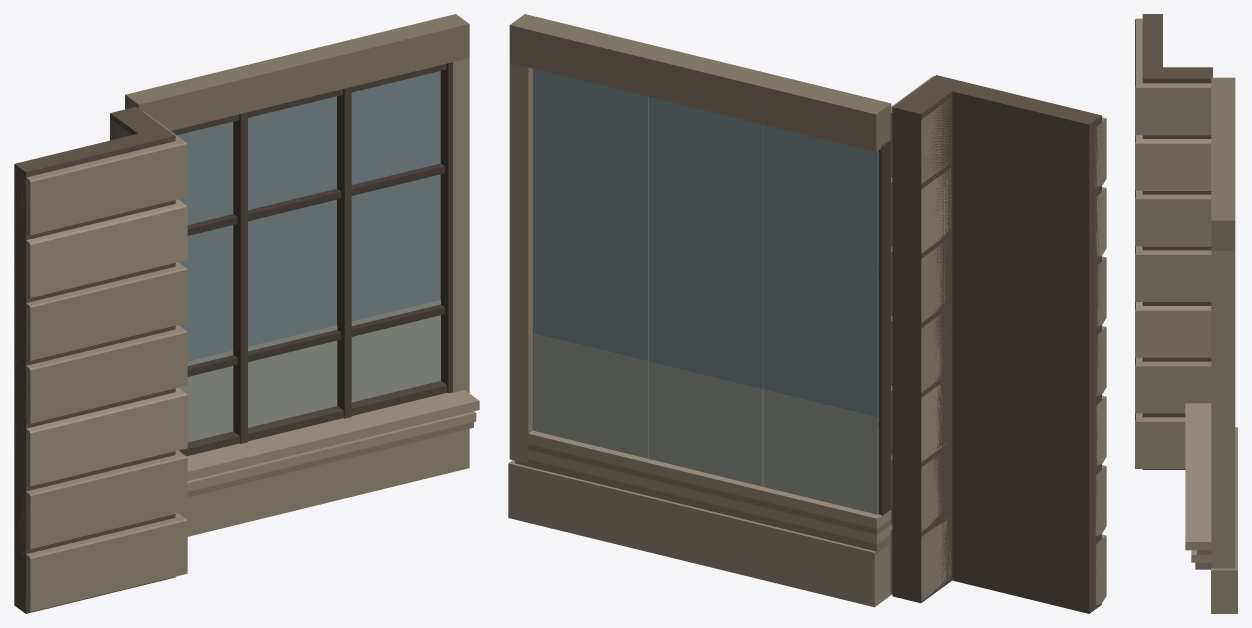
The model's file is huangpu-zhonghe-cun-no14-channelled-window-pier-lod.glb.
The picture shows the model from 3 angles, left to right: view 1: azimuth 30°, elevation 25°; view 2: azimuth 150°, elevation 25°; view 3: azimuth 270°, elevation 25°; orthographic projection. The views are drawn at different scales.
Visible parts, largest first — view 1: 长乐路272弄14号住宅转角横槽墙墩与木格窗; view 2: 长乐路272弄14号住宅转角横槽墙墩与木格窗; view 3: 长乐路272弄14号住宅转角横槽墙墩与木格窗.
Boxes of the visible parts, x1,y1,x2,y2 form: 长乐路272弄14号住宅转角横槽墙墩与木格窗: [14, 14, 479, 613]; 长乐路272弄14号住宅转角横槽墙墩与木格窗: [508, 14, 1106, 613]; 长乐路272弄14号住宅转角横槽墙墩与木格窗: [1135, 14, 1237, 613].
Bounding box in the file's own units: 3.12 × 2.74 × 0.651.
